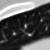node: (22, 23, 28, 29), (12, 31, 17, 36), (27, 33, 33, 37)
